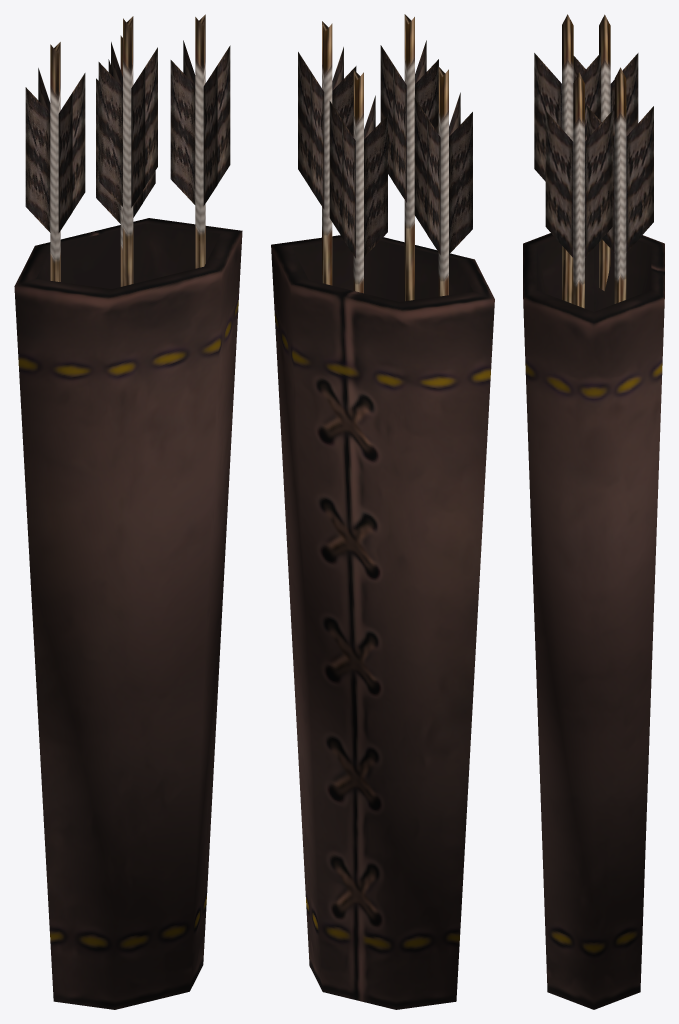
The model's file is MedievalQuiver.fbx.
The picture shows the model from 3 angles, left to right: view 1: azimuth 30°, elevation 25°; view 2: azimuth 150°, elevation 25°; view 3: azimuth 270°, elevation 25°; orthographic projection. The views are drawn at different scales.
Parts seen in each view (by area): view 1: MedievalQuiver; view 2: MedievalQuiver; view 3: MedievalQuiver.
Part boxes in pixels (bbox=[...]): MedievalQuiver: bbox=[14, 14, 242, 1009]; MedievalQuiver: bbox=[271, 14, 494, 1009]; MedievalQuiver: bbox=[523, 14, 664, 1009].
Size of the model in its own units: 0.2122 by 0.8711 by 0.1176.
